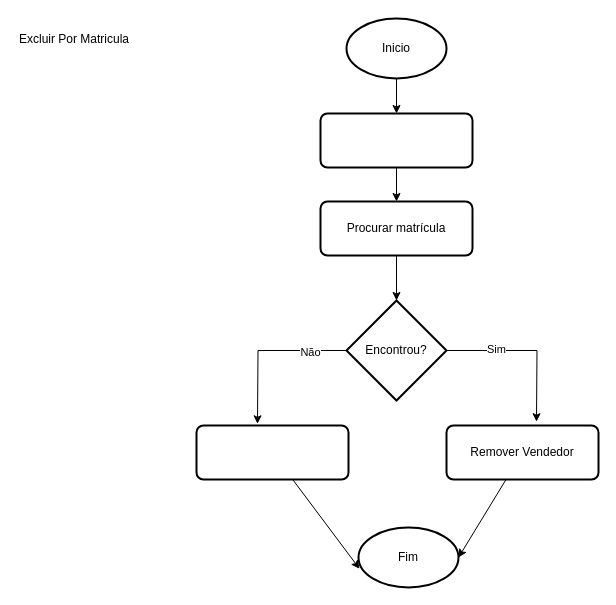
Image size: 616x605. Some labels were removed from this diagram. The shapes that lost their labels are listed below. From the top down, each one's box as (x1, y1, x2, y2) in pixels, then its label:
(319, 112, 473, 168): Receber matrícula
(195, 424, 349, 480): Mostrar "Não encontrado"
